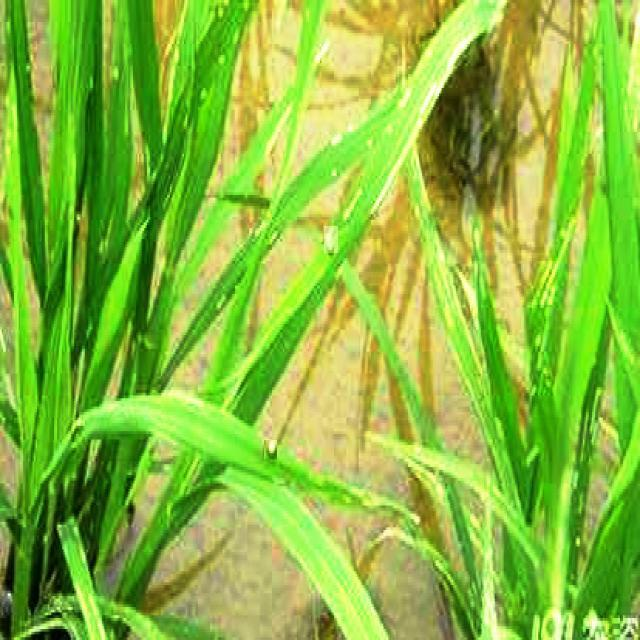rice-bug: (324, 226, 338, 253), (264, 440, 277, 460)
